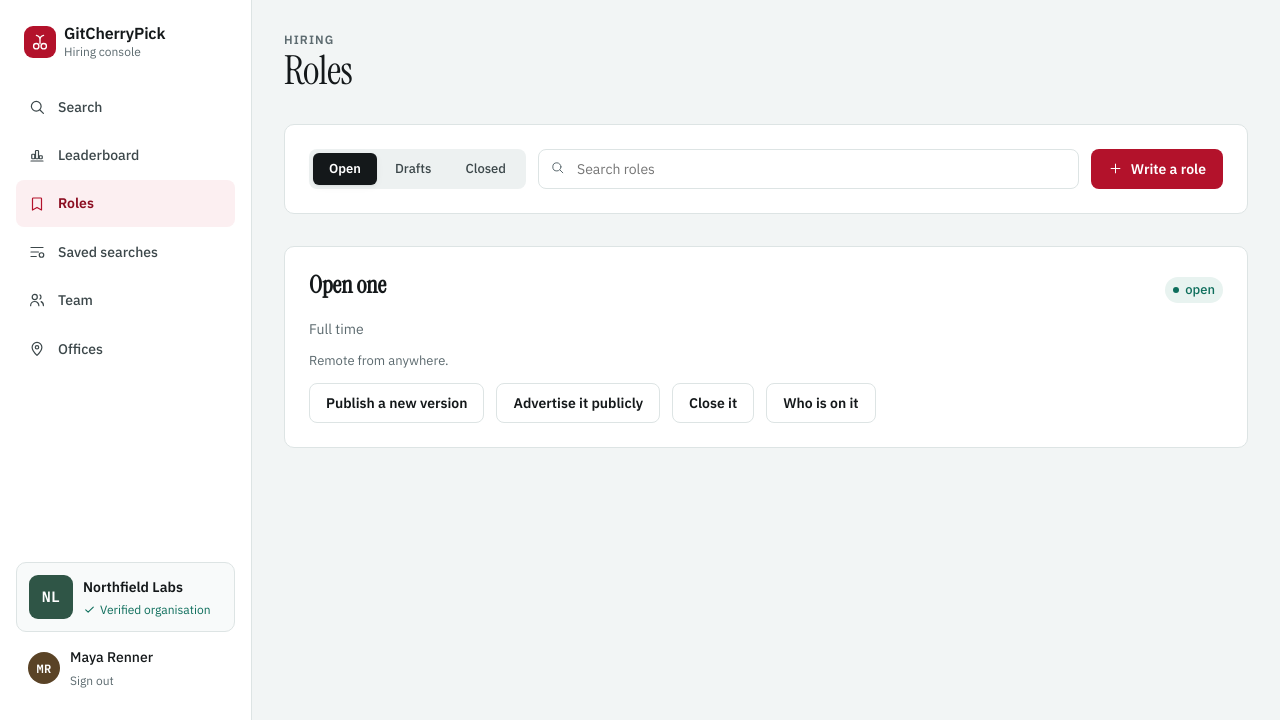
Test: the app renders › filters roles by any combination of statuses, and searches them
The image size is (1280, 720).
Expected: the heading "Open one" is shown, [309,271,386,300]
Expected: the text "Draft one" is not shown
Adding a status WIDENS rather than replacing.
Click the button "Drafts". click: (413, 169)
box: [379,153,448,185]
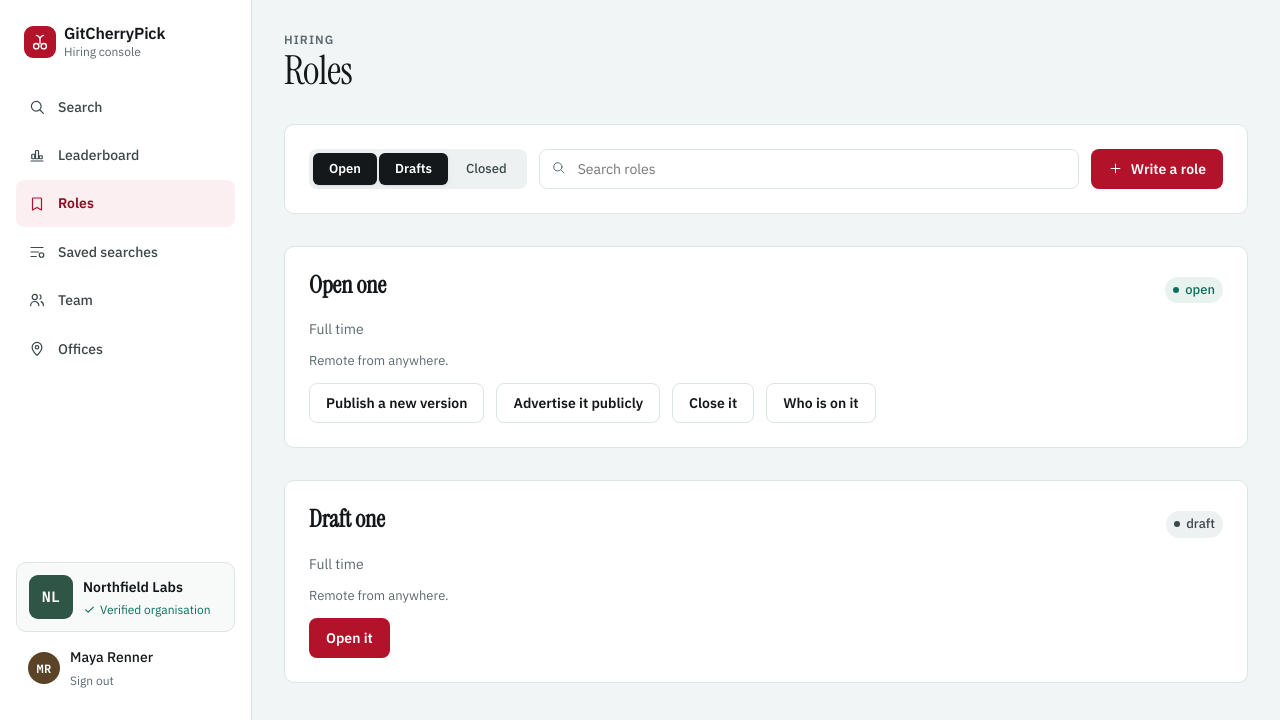
Expected: the heading "Open one" is shown, [309,271,386,300]
Result: the heading "Draft one" is shown at [309,505,385,534]
All three at once.
Click the button "Closed". click: (486, 169)
box: [450,153,523,185]
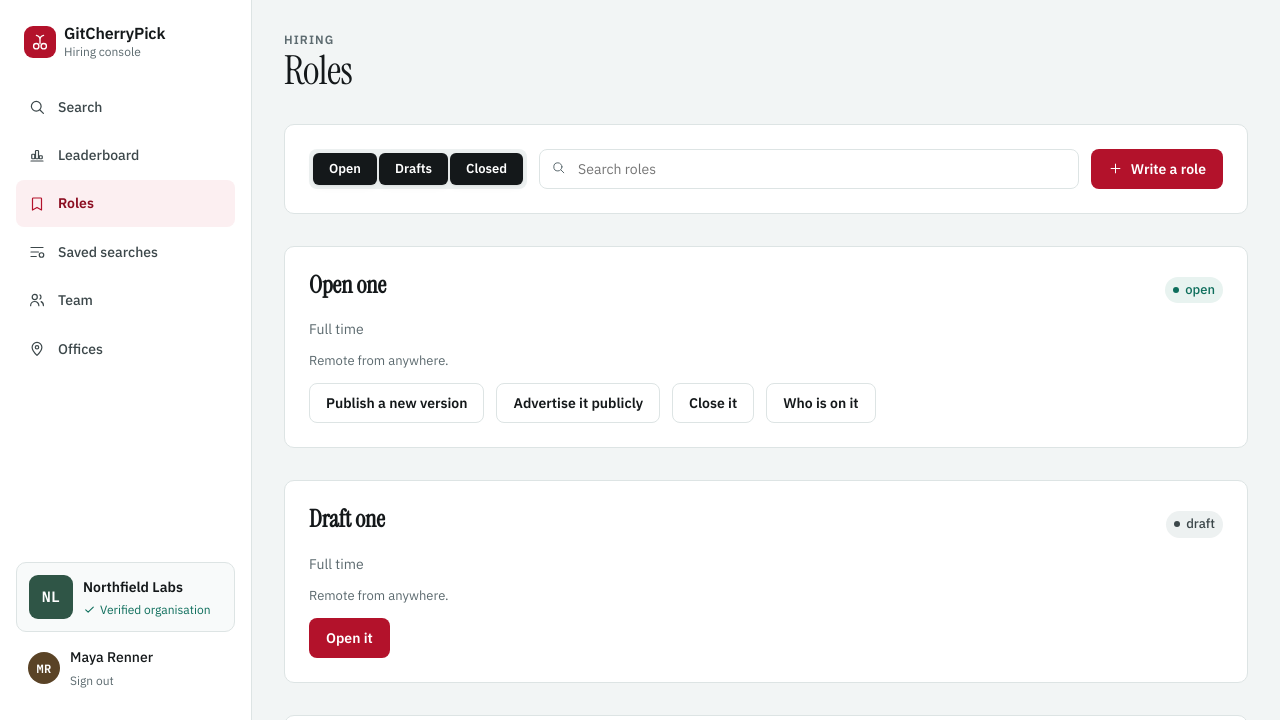
And the search narrows across whatever is ticked.
Type "closed" into the search field labelled "Search roles". click: (809, 169)
box: [539,149,1079,189]
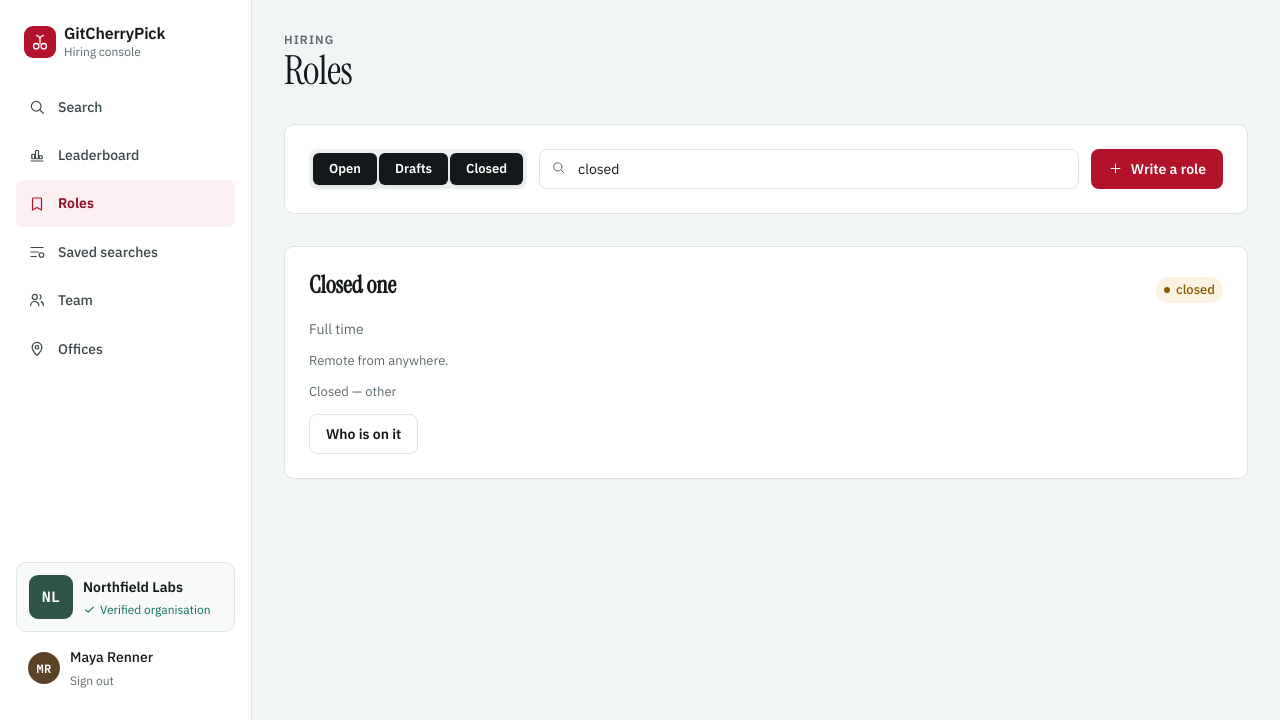
Result: the heading "Closed one" is shown at [309,271,396,300]
Result: the heading "Open one" is gone
Result: the heading "Draft one" is gone
